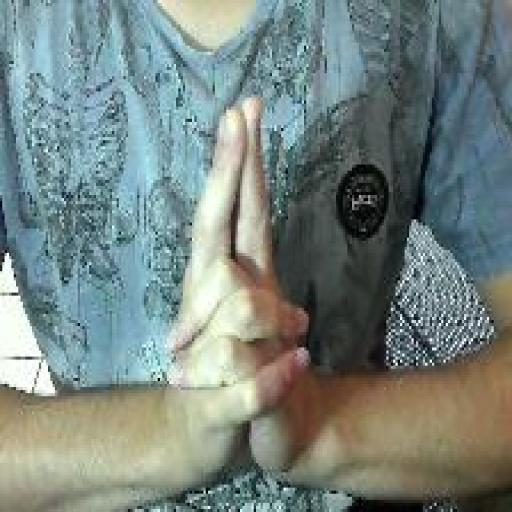Tora -tiger-: (161, 91, 312, 494)
